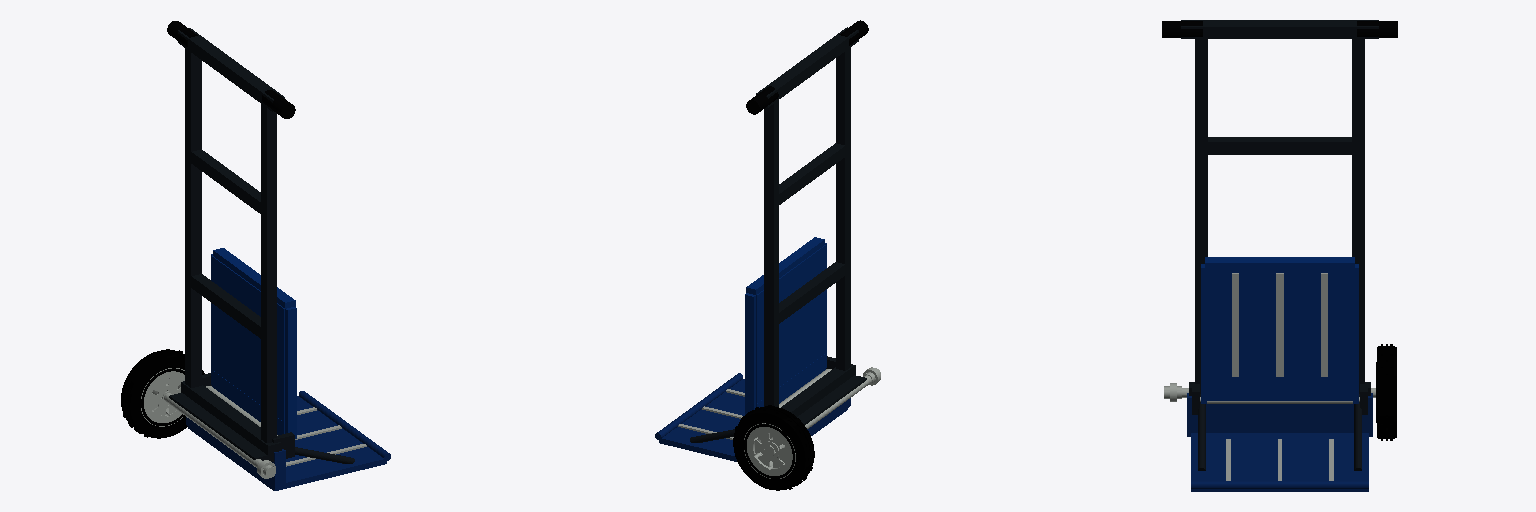
URDF robot description (folding_platform_hand_truck):
<robot name="folding_platform_hand_truck">
  <material name="powder_coated_steel">
    <color rgba="0.08 0.1 0.12 1" />
    </material>
  <material name="blue_load_plate">
    <color rgba="0.05 0.16 0.36 1" />
    </material>
  <material name="black_rubber">
    <color rgba="0.01 0.01 0.01 1" />
    </material>
  <material name="dark_polymer">
    <color rgba="0.025 0.025 0.028 1" />
    </material>
  <material name="zinc_plated_steel">
    <color rgba="0.62 0.64 0.62 1" />
    </material>
  <material name="folding_shelf_blue">
    <color rgba="0.04 0.18 0.42 1" />
    </material>
  <link name="frame">
    <visual name="upright_0">
      <origin xyz="0 -0.22 0.72" rpy="0 0 0" />
      <geometry>
        <box size="0.035 0.035 1.12" />
        </geometry>
      <material name="powder_coated_steel">
        <color rgba="0.08 0.1 0.12 1" />
        </material>
      </visual>
    <visual name="upright_1">
      <origin xyz="0 0.22 0.72" rpy="0 0 0" />
      <geometry>
        <box size="0.035 0.035 1.12" />
        </geometry>
      <material name="powder_coated_steel">
        <color rgba="0.08 0.1 0.12 1" />
        </material>
      </visual>
    <visual name="bottom_rail">
      <origin xyz="0 0 0.16" rpy="0 0 0" />
      <geometry>
        <box size="0.045 0.51 0.038" />
        </geometry>
      <material name="powder_coated_steel">
        <color rgba="0.08 0.1 0.12 1" />
        </material>
      </visual>
    <visual name="middle_rail">
      <origin xyz="0 0 0.52" rpy="0 0 0" />
      <geometry>
        <box size="0.035 0.47 0.038" />
        </geometry>
      <material name="powder_coated_steel">
        <color rgba="0.08 0.1 0.12 1" />
        </material>
      </visual>
    <visual name="upper_rail">
      <origin xyz="0 0 0.92" rpy="0 0 0" />
      <geometry>
        <box size="0.035 0.47 0.038" />
        </geometry>
      <material name="powder_coated_steel">
        <color rgba="0.08 0.1 0.12 1" />
        </material>
      </visual>
    <visual name="handle_bar">
      <origin xyz="0 0 1.28" rpy="0 0 0" />
      <geometry>
        <box size="0.042 0.555 0.038" />
        </geometry>
      <material name="powder_coated_steel">
        <color rgba="0.08 0.1 0.12 1" />
        </material>
      </visual>
    <visual name="rubber_grip_0">
      <origin xyz="0 -0.275 1.28" rpy="1.5708 0 0" />
      <geometry>
        <cylinder radius="0.024" length="0.115" />
        </geometry>
      <material name="dark_polymer">
        <color rgba="0.025 0.025 0.028 1" />
        </material>
      </visual>
    <visual name="rubber_grip_1">
      <origin xyz="0 0.275 1.28" rpy="1.5708 0 0" />
      <geometry>
        <cylinder radius="0.024" length="0.115" />
        </geometry>
      <material name="dark_polymer">
        <color rgba="0.025 0.025 0.028 1" />
        </material>
      </visual>
    <visual name="primary_toe_plate">
      <origin xyz="0.19 0 0.035" rpy="0 0 0" />
      <geometry>
        <box size="0.38 0.5 0.018" />
        </geometry>
      <material name="blue_load_plate">
        <color rgba="0.05 0.16 0.36 1" />
        </material>
      </visual>
    <visual name="toe_back_lip">
      <origin xyz="0.015 0 0.094" rpy="0 0 0" />
      <geometry>
        <box size="0.035 0.52 0.12" />
        </geometry>
      <material name="blue_load_plate">
        <color rgba="0.05 0.16 0.36 1" />
        </material>
      </visual>
    <visual name="toe_front_roll">
      <origin xyz="0.382 0 0.047" rpy="1.5708 0 0" />
      <geometry>
        <cylinder radius="0.012" length="0.5" />
        </geometry>
      <material name="blue_load_plate">
        <color rgba="0.05 0.16 0.36 1" />
        </material>
      </visual>
    <visual name="toe_rib_-0.145">
      <origin xyz="0.225 -0.145 0.0465" rpy="0 0 0" />
      <geometry>
        <box size="0.285 0.014 0.006" />
        </geometry>
      <material name="zinc_plated_steel">
        <color rgba="0.62 0.64 0.62 1" />
        </material>
      </visual>
    <visual name="toe_rib_+0.000">
      <origin xyz="0.225 0 0.0465" rpy="0 0 0" />
      <geometry>
        <box size="0.285 0.014 0.006" />
        </geometry>
      <material name="zinc_plated_steel">
        <color rgba="0.62 0.64 0.62 1" />
        </material>
      </visual>
    <visual name="toe_rib_+0.145">
      <origin xyz="0.225 0.145 0.0465" rpy="0 0 0" />
      <geometry>
        <box size="0.285 0.014 0.006" />
        </geometry>
      <material name="zinc_plated_steel">
        <color rgba="0.62 0.64 0.62 1" />
        </material>
      </visual>
    <visual name="toe_brace_0">
      <origin xyz="0.14 -0.22 0.1025" rpy="0 1.9605 0" />
      <geometry>
        <cylinder radius="0.011" length="0.302696" />
        </geometry>
      <material name="powder_coated_steel">
        <color rgba="0.08 0.1 0.12 1" />
        </material>
      </visual>
    <visual name="toe_brace_1">
      <origin xyz="0.14 0.22 0.1025" rpy="0 1.9605 0" />
      <geometry>
        <cylinder radius="0.011" length="0.302696" />
        </geometry>
      <material name="powder_coated_steel">
        <color rgba="0.08 0.1 0.12 1" />
        </material>
      </visual>
    <visual name="axle_saddle">
      <origin xyz="-0.025 0 0.135" rpy="0 0 0" />
      <geometry>
        <box size="0.08 0.5 0.025" />
        </geometry>
      <material name="powder_coated_steel">
        <color rgba="0.08 0.1 0.12 1" />
        </material>
      </visual>
    <visual name="wheel_axle">
      <origin xyz="-0.055 0 0.13" rpy="1.5708 0 0" />
      <geometry>
        <cylinder radius="0.014" length="0.62" />
        </geometry>
      <material name="zinc_plated_steel">
        <color rgba="0.62 0.64 0.62 1" />
        </material>
      </visual>
    <visual name="hinge_cheek_0">
      <origin xyz="0.036 -0.236 0.155" rpy="0 0 0" />
      <geometry>
        <box size="0.07 0.022 0.07" />
        </geometry>
      <material name="powder_coated_steel">
        <color rgba="0.08 0.1 0.12 1" />
        </material>
      </visual>
    <visual name="hinge_cheek_1">
      <origin xyz="0.036 0.236 0.155" rpy="0 0 0" />
      <geometry>
        <box size="0.07 0.022 0.07" />
        </geometry>
      <material name="powder_coated_steel">
        <color rgba="0.08 0.1 0.12 1" />
        </material>
      </visual>
    <visual name="hinge_pin">
      <origin xyz="0.045 0 0.155" rpy="1.5708 0 0" />
      <geometry>
        <cylinder radius="0.007" length="0.48" />
        </geometry>
      <material name="zinc_plated_steel">
        <color rgba="0.62 0.64 0.62 1" />
        </material>
      </visual>
    <collision name="upright_0">
      <origin xyz="0 -0.22 0.72" rpy="0 0 0" />
      <geometry>
        <box size="0.035 0.035 1.12" />
        </geometry>
      </collision>
    <collision name="upright_1">
      <origin xyz="0 0.22 0.72" rpy="0 0 0" />
      <geometry>
        <box size="0.035 0.035 1.12" />
        </geometry>
      </collision>
    <collision name="bottom_rail">
      <origin xyz="0 0 0.16" rpy="0 0 0" />
      <geometry>
        <box size="0.045 0.51 0.038" />
        </geometry>
      </collision>
    <collision name="middle_rail">
      <origin xyz="0 0 0.52" rpy="0 0 0" />
      <geometry>
        <box size="0.035 0.47 0.038" />
        </geometry>
      </collision>
    <collision name="upper_rail">
      <origin xyz="0 0 0.92" rpy="0 0 0" />
      <geometry>
        <box size="0.035 0.47 0.038" />
        </geometry>
      </collision>
    <collision name="handle_bar">
      <origin xyz="0 0 1.28" rpy="0 0 0" />
      <geometry>
        <box size="0.042 0.555 0.038" />
        </geometry>
      </collision>
    <collision name="rubber_grip_0">
      <origin xyz="0 -0.275 1.28" rpy="1.5708 0 0" />
      <geometry>
        <cylinder radius="0.024" length="0.115" />
        </geometry>
      </collision>
    <collision name="rubber_grip_1">
      <origin xyz="0 0.275 1.28" rpy="1.5708 0 0" />
      <geometry>
        <cylinder radius="0.024" length="0.115" />
        </geometry>
      </collision>
    <collision name="primary_toe_plate">
      <origin xyz="0.19 0 0.035" rpy="0 0 0" />
      <geometry>
        <box size="0.38 0.5 0.018" />
        </geometry>
      </collision>
    <collision name="toe_back_lip">
      <origin xyz="0.015 0 0.094" rpy="0 0 0" />
      <geometry>
        <box size="0.035 0.52 0.12" />
        </geometry>
      </collision>
    <collision name="toe_front_roll">
      <origin xyz="0.382 0 0.047" rpy="1.5708 0 0" />
      <geometry>
        <cylinder radius="0.012" length="0.5" />
        </geometry>
      </collision>
    <collision name="toe_rib_-0.145">
      <origin xyz="0.225 -0.145 0.0465" rpy="0 0 0" />
      <geometry>
        <box size="0.285 0.014 0.006" />
        </geometry>
      </collision>
    <collision name="toe_rib_+0.000">
      <origin xyz="0.225 0 0.0465" rpy="0 0 0" />
      <geometry>
        <box size="0.285 0.014 0.006" />
        </geometry>
      </collision>
    <collision name="toe_rib_+0.145">
      <origin xyz="0.225 0.145 0.0465" rpy="0 0 0" />
      <geometry>
        <box size="0.285 0.014 0.006" />
        </geometry>
      </collision>
    <collision name="toe_brace_0">
      <origin xyz="0.14 -0.22 0.1025" rpy="0 1.9605 0" />
      <geometry>
        <cylinder radius="0.011" length="0.302696" />
        </geometry>
      </collision>
    <collision name="toe_brace_1">
      <origin xyz="0.14 0.22 0.1025" rpy="0 1.9605 0" />
      <geometry>
        <cylinder radius="0.011" length="0.302696" />
        </geometry>
      </collision>
    <collision name="axle_saddle">
      <origin xyz="-0.025 0 0.135" rpy="0 0 0" />
      <geometry>
        <box size="0.08 0.5 0.025" />
        </geometry>
      </collision>
    <collision name="wheel_axle">
      <origin xyz="-0.055 0 0.13" rpy="1.5708 0 0" />
      <geometry>
        <cylinder radius="0.014" length="0.62" />
        </geometry>
      </collision>
    <collision name="hinge_cheek_0">
      <origin xyz="0.036 -0.236 0.155" rpy="0 0 0" />
      <geometry>
        <box size="0.07 0.022 0.07" />
        </geometry>
      </collision>
    <collision name="hinge_cheek_1">
      <origin xyz="0.036 0.236 0.155" rpy="0 0 0" />
      <geometry>
        <box size="0.07 0.022 0.07" />
        </geometry>
      </collision>
    <collision name="hinge_pin">
      <origin xyz="0.045 0 0.155" rpy="1.5708 0 0" />
      <geometry>
        <cylinder radius="0.007" length="0.48" />
        </geometry>
      </collision>
    </link>
  <link name="secondary_shelf">
    <visual name="shelf_hinge_sleeve">
      <origin xyz="0 0 0" rpy="1.5708 0 0" />
      <geometry>
        <cylinder radius="0.014" length="0.42" />
        </geometry>
      <material name="zinc_plated_steel">
        <color rgba="0.62 0.64 0.62 1" />
        </material>
      </visual>
    <visual name="hinge_leaf">
      <origin xyz="0.02 0 0.039" rpy="0 0 0" />
      <geometry>
        <box size="0.02 0.42 0.05" />
        </geometry>
      <material name="folding_shelf_blue">
        <color rgba="0.04 0.18 0.42 1" />
        </material>
      </visual>
    <visual name="shelf_panel">
      <origin xyz="0.02 0 0.218" rpy="0 0 0" />
      <geometry>
        <box size="0.018 0.42 0.42" />
        </geometry>
      <material name="folding_shelf_blue">
        <color rgba="0.04 0.18 0.42 1" />
        </material>
      </visual>
    <visual name="side_lip_0">
      <origin xyz="0.031 -0.214 0.218" rpy="0 0 0" />
      <geometry>
        <box size="0.032 0.018 0.42" />
        </geometry>
      <material name="folding_shelf_blue">
        <color rgba="0.04 0.18 0.42 1" />
        </material>
      </visual>
    <visual name="side_lip_1">
      <origin xyz="0.031 0.214 0.218" rpy="0 0 0" />
      <geometry>
        <box size="0.032 0.018 0.42" />
        </geometry>
      <material name="folding_shelf_blue">
        <color rgba="0.04 0.18 0.42 1" />
        </material>
      </visual>
    <visual name="front_lip">
      <origin xyz="0.032 0 0.434" rpy="0 0 0" />
      <geometry>
        <box size="0.035 0.42 0.026" />
        </geometry>
      <material name="folding_shelf_blue">
        <color rgba="0.04 0.18 0.42 1" />
        </material>
      </visual>
    <visual name="shelf_rib_-0.125">
      <origin xyz="0.031 -0.125 0.245" rpy="0 0 0" />
      <geometry>
        <box size="0.007 0.02 0.32" />
        </geometry>
      <material name="zinc_plated_steel">
        <color rgba="0.62 0.64 0.62 1" />
        </material>
      </visual>
    <visual name="shelf_rib_+0.000">
      <origin xyz="0.031 0 0.245" rpy="0 0 0" />
      <geometry>
        <box size="0.007 0.02 0.32" />
        </geometry>
      <material name="zinc_plated_steel">
        <color rgba="0.62 0.64 0.62 1" />
        </material>
      </visual>
    <visual name="shelf_rib_+0.125">
      <origin xyz="0.031 0.125 0.245" rpy="0 0 0" />
      <geometry>
        <box size="0.007 0.02 0.32" />
        </geometry>
      <material name="zinc_plated_steel">
        <color rgba="0.62 0.64 0.62 1" />
        </material>
      </visual>
    <collision name="shelf_hinge_sleeve">
      <origin xyz="0 0 0" rpy="1.5708 0 0" />
      <geometry>
        <cylinder radius="0.014" length="0.42" />
        </geometry>
      </collision>
    <collision name="hinge_leaf">
      <origin xyz="0.02 0 0.039" rpy="0 0 0" />
      <geometry>
        <box size="0.02 0.42 0.05" />
        </geometry>
      </collision>
    <collision name="shelf_panel">
      <origin xyz="0.02 0 0.218" rpy="0 0 0" />
      <geometry>
        <box size="0.018 0.42 0.42" />
        </geometry>
      </collision>
    <collision name="side_lip_0">
      <origin xyz="0.031 -0.214 0.218" rpy="0 0 0" />
      <geometry>
        <box size="0.032 0.018 0.42" />
        </geometry>
      </collision>
    <collision name="side_lip_1">
      <origin xyz="0.031 0.214 0.218" rpy="0 0 0" />
      <geometry>
        <box size="0.032 0.018 0.42" />
        </geometry>
      </collision>
    <collision name="front_lip">
      <origin xyz="0.032 0 0.434" rpy="0 0 0" />
      <geometry>
        <box size="0.035 0.42 0.026" />
        </geometry>
      </collision>
    <collision name="shelf_rib_-0.125">
      <origin xyz="0.031 -0.125 0.245" rpy="0 0 0" />
      <geometry>
        <box size="0.007 0.02 0.32" />
        </geometry>
      </collision>
    <collision name="shelf_rib_+0.000">
      <origin xyz="0.031 0 0.245" rpy="0 0 0" />
      <geometry>
        <box size="0.007 0.02 0.32" />
        </geometry>
      </collision>
    <collision name="shelf_rib_+0.125">
      <origin xyz="0.031 0.125 0.245" rpy="0 0 0" />
      <geometry>
        <box size="0.007 0.02 0.32" />
        </geometry>
      </collision>
    </link>
  <link name="wheel_0">
    <visual name="tire">
      <geometry>
        <mesh filename="assets/meshes/wheel_0_tire.obj" />
        </geometry>
      <material name="black_rubber">
        <color rgba="0.01 0.01 0.01 1" />
        </material>
      </visual>
    <visual name="rim">
      <geometry>
        <mesh filename="assets/meshes/wheel_0_rim.obj" />
        </geometry>
      <material name="zinc_plated_steel">
        <color rgba="0.62 0.64 0.62 1" />
        </material>
      </visual>
    <visual name="axle_bushing">
      <origin xyz="0 0 0" rpy="0 1.5708 0" />
      <geometry>
        <cylinder radius="0.017" length="0.052" />
        </geometry>
      <material name="zinc_plated_steel">
        <color rgba="0.62 0.64 0.62 1" />
        </material>
      </visual>
    <collision name="tire">
      <geometry>
        <mesh filename="assets/meshes/wheel_0_tire.obj" />
        </geometry>
      </collision>
    <collision name="rim">
      <geometry>
        <mesh filename="assets/meshes/wheel_0_rim.obj" />
        </geometry>
      </collision>
    <collision name="axle_bushing">
      <origin xyz="0 0 0" rpy="0 1.5708 0" />
      <geometry>
        <cylinder radius="0.017" length="0.052" />
        </geometry>
      </collision>
    </link>
  <link name="wheel_1">
    <visual name="tire">
      <geometry>
        <mesh filename="assets/meshes/wheel_1_tire.obj" />
        </geometry>
      <material name="black_rubber">
        <color rgba="0.01 0.01 0.01 1" />
        </material>
      </visual>
    <visual name="rim">
      <geometry>
        <mesh filename="assets/meshes/wheel_1_rim.obj" />
        </geometry>
      <material name="zinc_plated_steel">
        <color rgba="0.62 0.64 0.62 1" />
        </material>
      </visual>
    <visual name="axle_bushing">
      <origin xyz="0 0 0" rpy="0 1.5708 0" />
      <geometry>
        <cylinder radius="0.017" length="0.052" />
        </geometry>
      <material name="zinc_plated_steel">
        <color rgba="0.62 0.64 0.62 1" />
        </material>
      </visual>
    <collision name="tire">
      <geometry>
        <mesh filename="assets/meshes/wheel_1_tire.obj" />
        </geometry>
      </collision>
    <collision name="rim">
      <geometry>
        <mesh filename="assets/meshes/wheel_1_rim.obj" />
        </geometry>
      </collision>
    <collision name="axle_bushing">
      <origin xyz="0 0 0" rpy="0 1.5708 0" />
      <geometry>
        <cylinder radius="0.017" length="0.052" />
        </geometry>
      </collision>
    </link>
  <joint name="frame_to_secondary_shelf" type="revolute">
    <origin xyz="0.045 0 0.155" rpy="0 0 0" />
    <parent link="frame" />
    <child link="secondary_shelf" />
    <axis xyz="0 1 0" />
    <limit effort="18" velocity="2" lower="0" upper="1.5708" />
    <dynamics damping="0.05" friction="0.02" />
    </joint>
  <joint name="frame_to_wheel_0" type="continuous">
    <origin xyz="-0.055 -0.3 0.13" rpy="0 0 1.5708" />
    <parent link="frame" />
    <child link="wheel_0" />
    <axis xyz="1 0 0" />
    <limit effort="6" velocity="12" />
    <dynamics damping="0.01" friction="0.01" />
    </joint>
  <joint name="frame_to_wheel_1" type="continuous">
    <origin xyz="-0.055 0.3 0.13" rpy="0 0 1.5708" />
    <parent link="frame" />
    <child link="wheel_1" />
    <axis xyz="1 0 0" />
    <limit effort="6" velocity="12" />
    <dynamics damping="0.01" friction="0.01" />
    </joint>
  </robot>

--- What the picture shows (computed from the rendered views, not written in the file) ---
Views: 3 orthographic renders of the robot side by side, from view 1: azimuth 30°, elevation 25°; view 2: azimuth 150°, elevation 25°; view 3: azimuth 270°, elevation 25°.
Robot: folding_platform_hand_truck — 4 links, 3 joints (1 revolute, 2 continuous); root link frame; default pose: every joint at zero.
Links seen in each view (by area): view 1: frame, secondary_shelf, wheel_1; view 2: frame, secondary_shelf, wheel_1; view 3: frame, secondary_shelf, wheel_1.
Link boxes in pixels (box(x1,y1,x2,y2)): frame: box(164, 21, 390, 490); secondary_shelf: box(206, 248, 296, 438); wheel_1: box(121, 349, 204, 438); frame: box(655, 20, 871, 461); secondary_shelf: box(745, 237, 830, 414); wheel_1: box(733, 405, 814, 490); frame: box(1162, 20, 1397, 491); secondary_shelf: box(1201, 257, 1358, 403); wheel_1: box(1376, 344, 1396, 440).
Size in the robot's own frame: 0.584 by 0.665 by 1.31 metres.
Meshes: 4 distinct files referenced, 3 mesh visuals loaded (3 OBJ); not drawn: 1 (reference not matched to a file when rendering).
